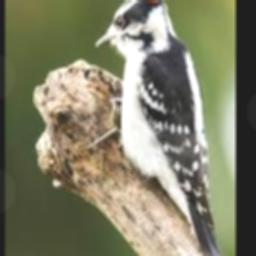Woodpecker: (85, 0, 230, 256)
